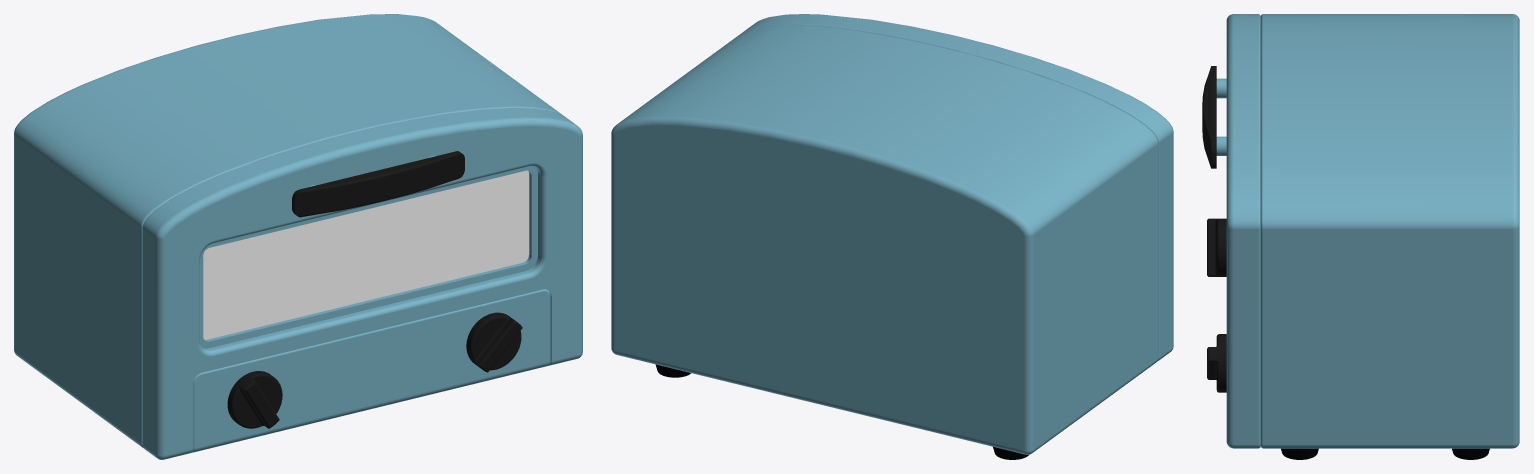
File: toaster.glb
The picture shows the model from 3 angles, left to right: view 1: azimuth 30°, elevation 25°; view 2: azimuth 150°, elevation 25°; view 3: azimuth 270°, elevation 25°; orthographic projection.
Visible parts, largest first — view 1: toaster, door, Body12, handle L, handle R; view 2: toaster, door; view 3: toaster, door, handle L, handle R.
Boxes of the visible parts, x1,y1,x2,y2 form: toaster: (14, 14, 562, 452); door: (142, 108, 582, 459); Body12: (203, 170, 529, 339); handle L: (227, 371, 282, 428); handle R: (466, 312, 522, 372); toaster: (611, 25, 1158, 459); door: (743, 14, 1173, 361); toaster: (1260, 14, 1519, 459); door: (1202, 14, 1260, 448); handle L: (1207, 218, 1226, 276); handle R: (1207, 334, 1226, 392).
Size of the model in its own units: 5 by 3.25 by 3.25.
